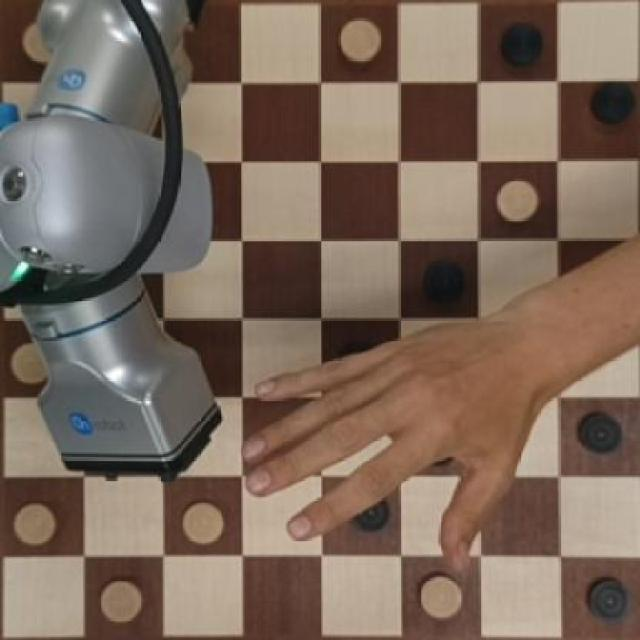black: (578, 572, 634, 632), (576, 406, 622, 467), (580, 76, 635, 127), (498, 14, 542, 72), (416, 257, 467, 304)
white: (91, 572, 155, 629), (409, 568, 466, 623), (333, 14, 386, 70), (495, 175, 545, 227), (176, 497, 226, 545), (10, 500, 56, 550)
